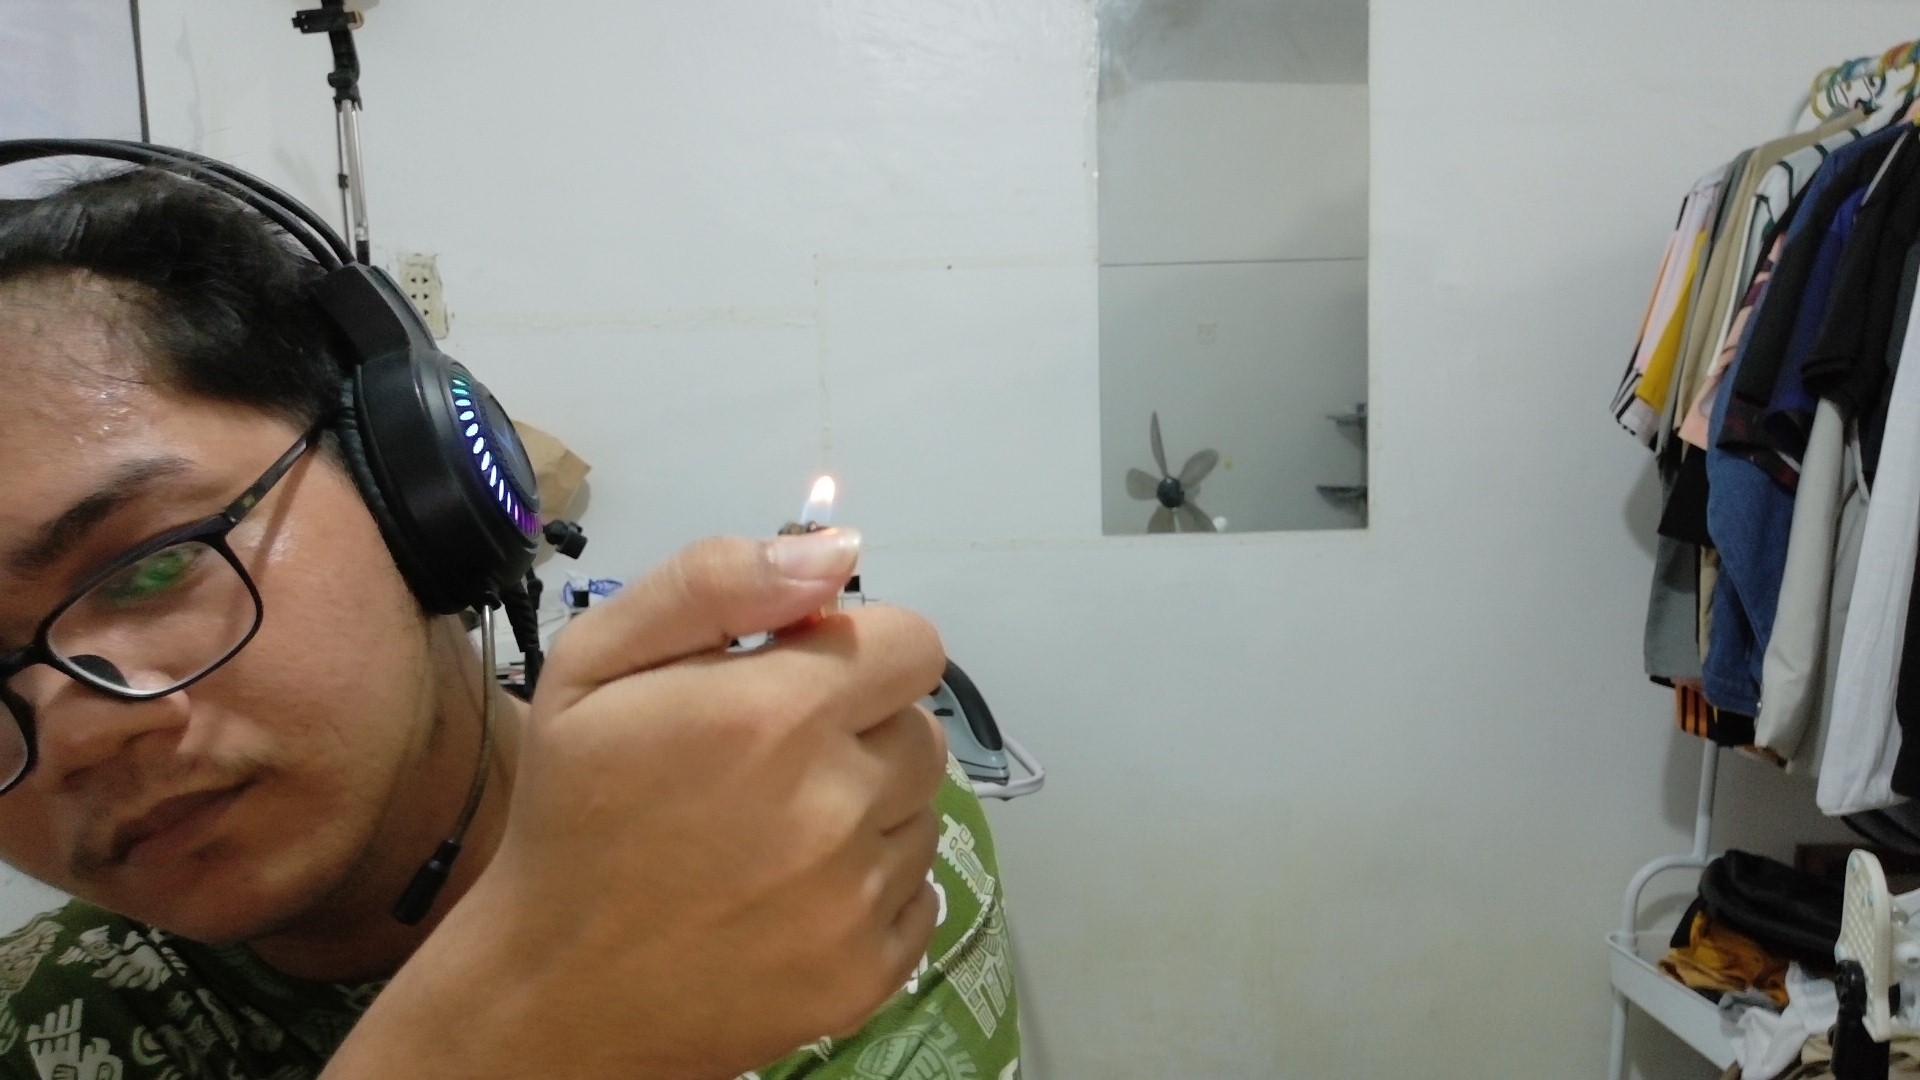fire: (751, 368, 867, 577)
